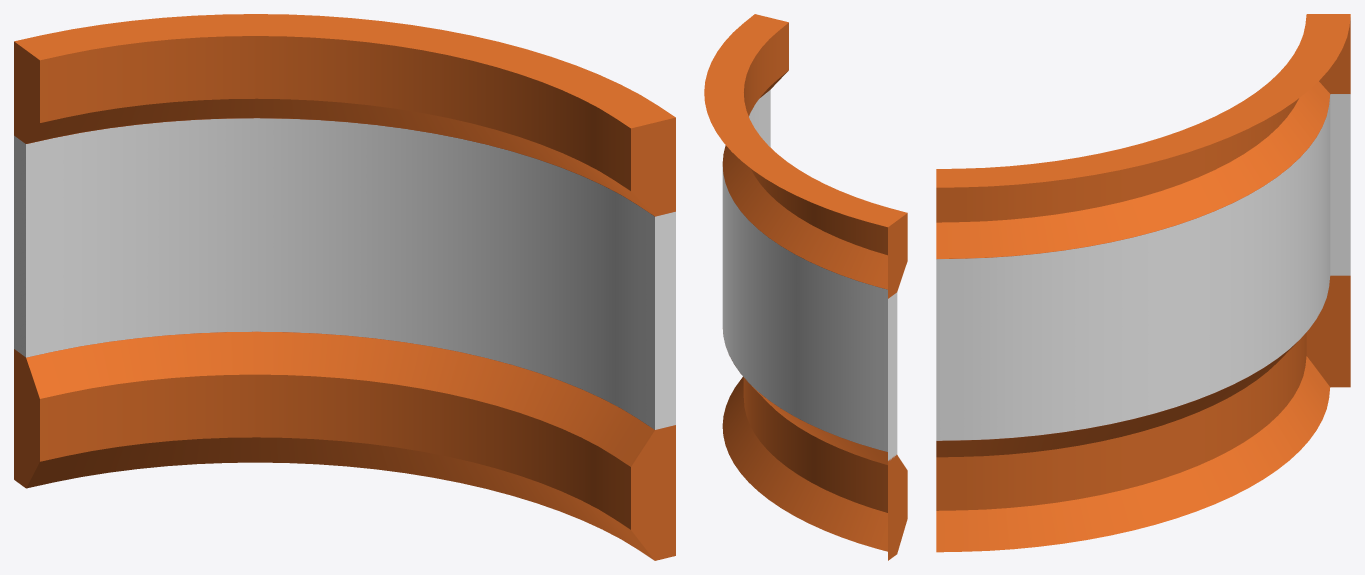
The model's file is large_corner.fbx.
The picture shows the model from 3 angles, left to right: view 1: azimuth 30°, elevation 25°; view 2: azimuth 150°, elevation 25°; view 3: azimuth 270°, elevation 25°; orthographic projection. The views are drawn at different scales.
Parts seen in each view (by area): view 1: large_corner; view 2: large_corner; view 3: large_corner.
Boxes of the visible parts, <box> form: large_corner: <box>14,14,675,560</box>; large_corner: <box>704,14,907,560</box>; large_corner: <box>936,14,1350,552</box>.
Bounding box in the file's own units: 300 × 300 × 302.
Materials: 1 (1 with a texture image).
